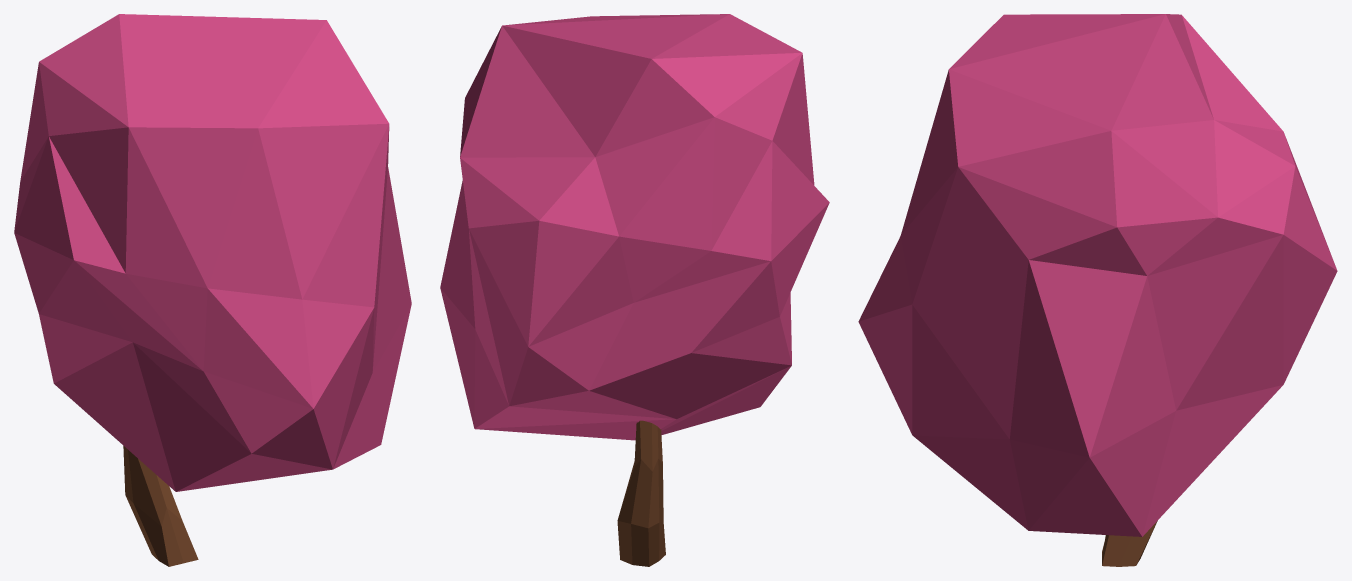
The model's file is Tree_44_Pink.fbx.
3 renders of one model, left to right at view 1: azimuth 30°, elevation 25°; view 2: azimuth 150°, elevation 25°; view 3: azimuth 270°, elevation 25°, orthographic. The views are drawn at different scales.
Visible parts, largest first — view 1: Tree_44_Pink_Part_1, Tree_44_Pink_Part_2; view 2: Tree_44_Pink_Part_1, Tree_44_Pink_Part_2; view 3: Tree_44_Pink_Part_1, Tree_44_Pink_Part_2.
Part boxes in pixels (bbox=[...]): Tree_44_Pink_Part_1: bbox=[14, 14, 411, 491]; Tree_44_Pink_Part_2: bbox=[123, 446, 198, 566]; Tree_44_Pink_Part_1: bbox=[440, 14, 829, 440]; Tree_44_Pink_Part_2: bbox=[617, 420, 665, 566]; Tree_44_Pink_Part_1: bbox=[858, 14, 1337, 536]; Tree_44_Pink_Part_2: bbox=[1102, 520, 1157, 566].
Bounding box in the file's own units: 595 × 825 × 677.
